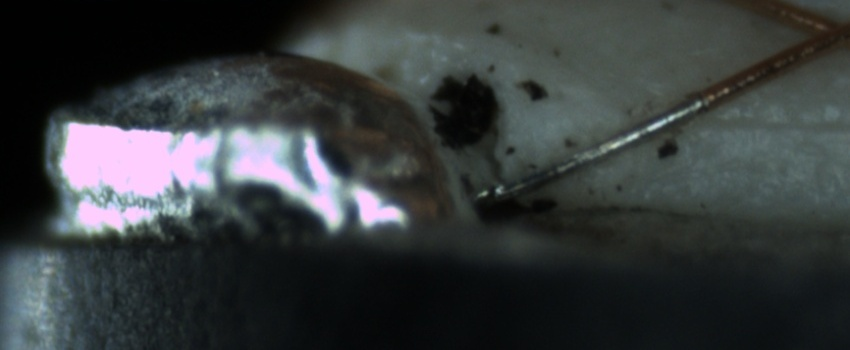CL: (777, 3, 848, 61)
DL: (689, 95, 850, 159)
TS: (473, 93, 708, 206)
